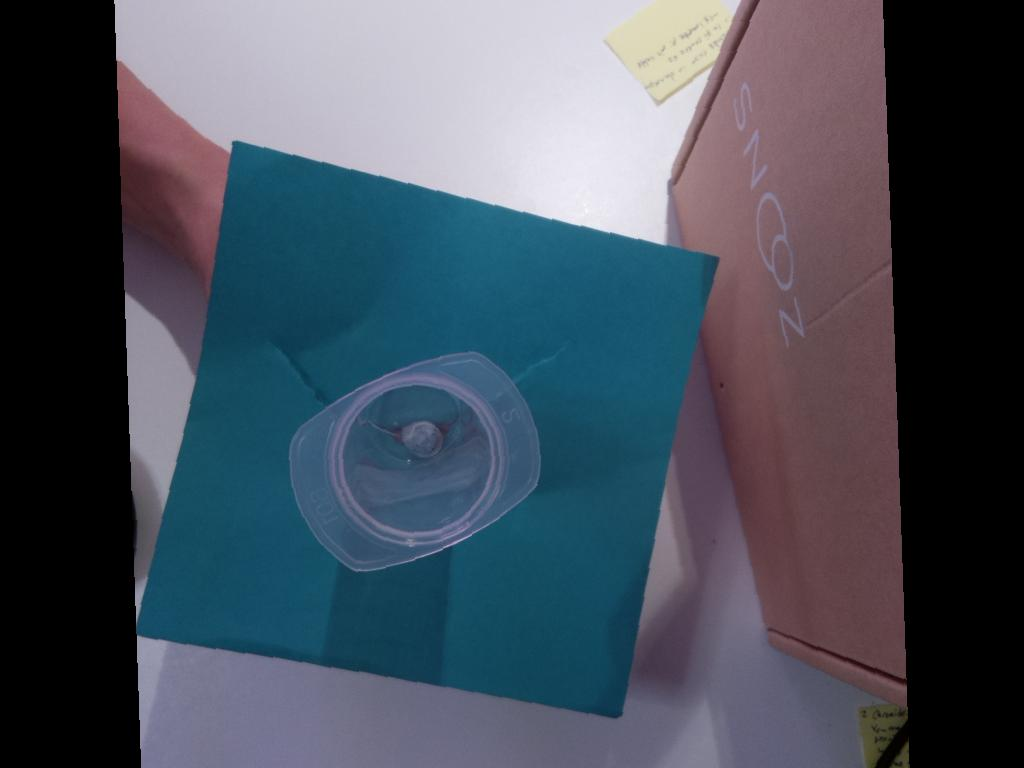clean: (288, 352, 540, 574)
